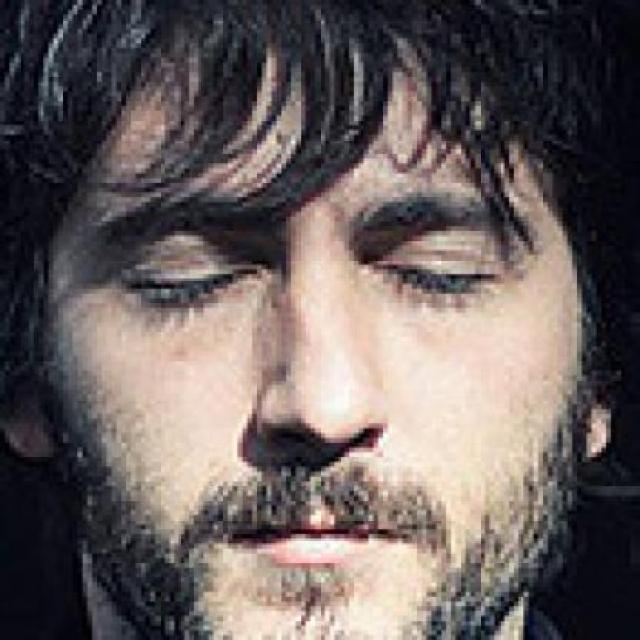drowsy: (121, 258, 257, 317), (372, 248, 498, 310)
